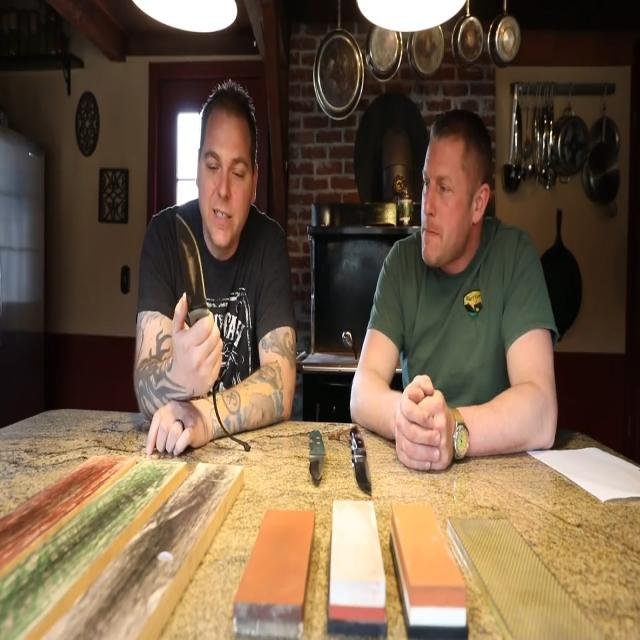knife: (174, 207, 210, 322), (347, 423, 379, 499), (307, 422, 329, 490)
